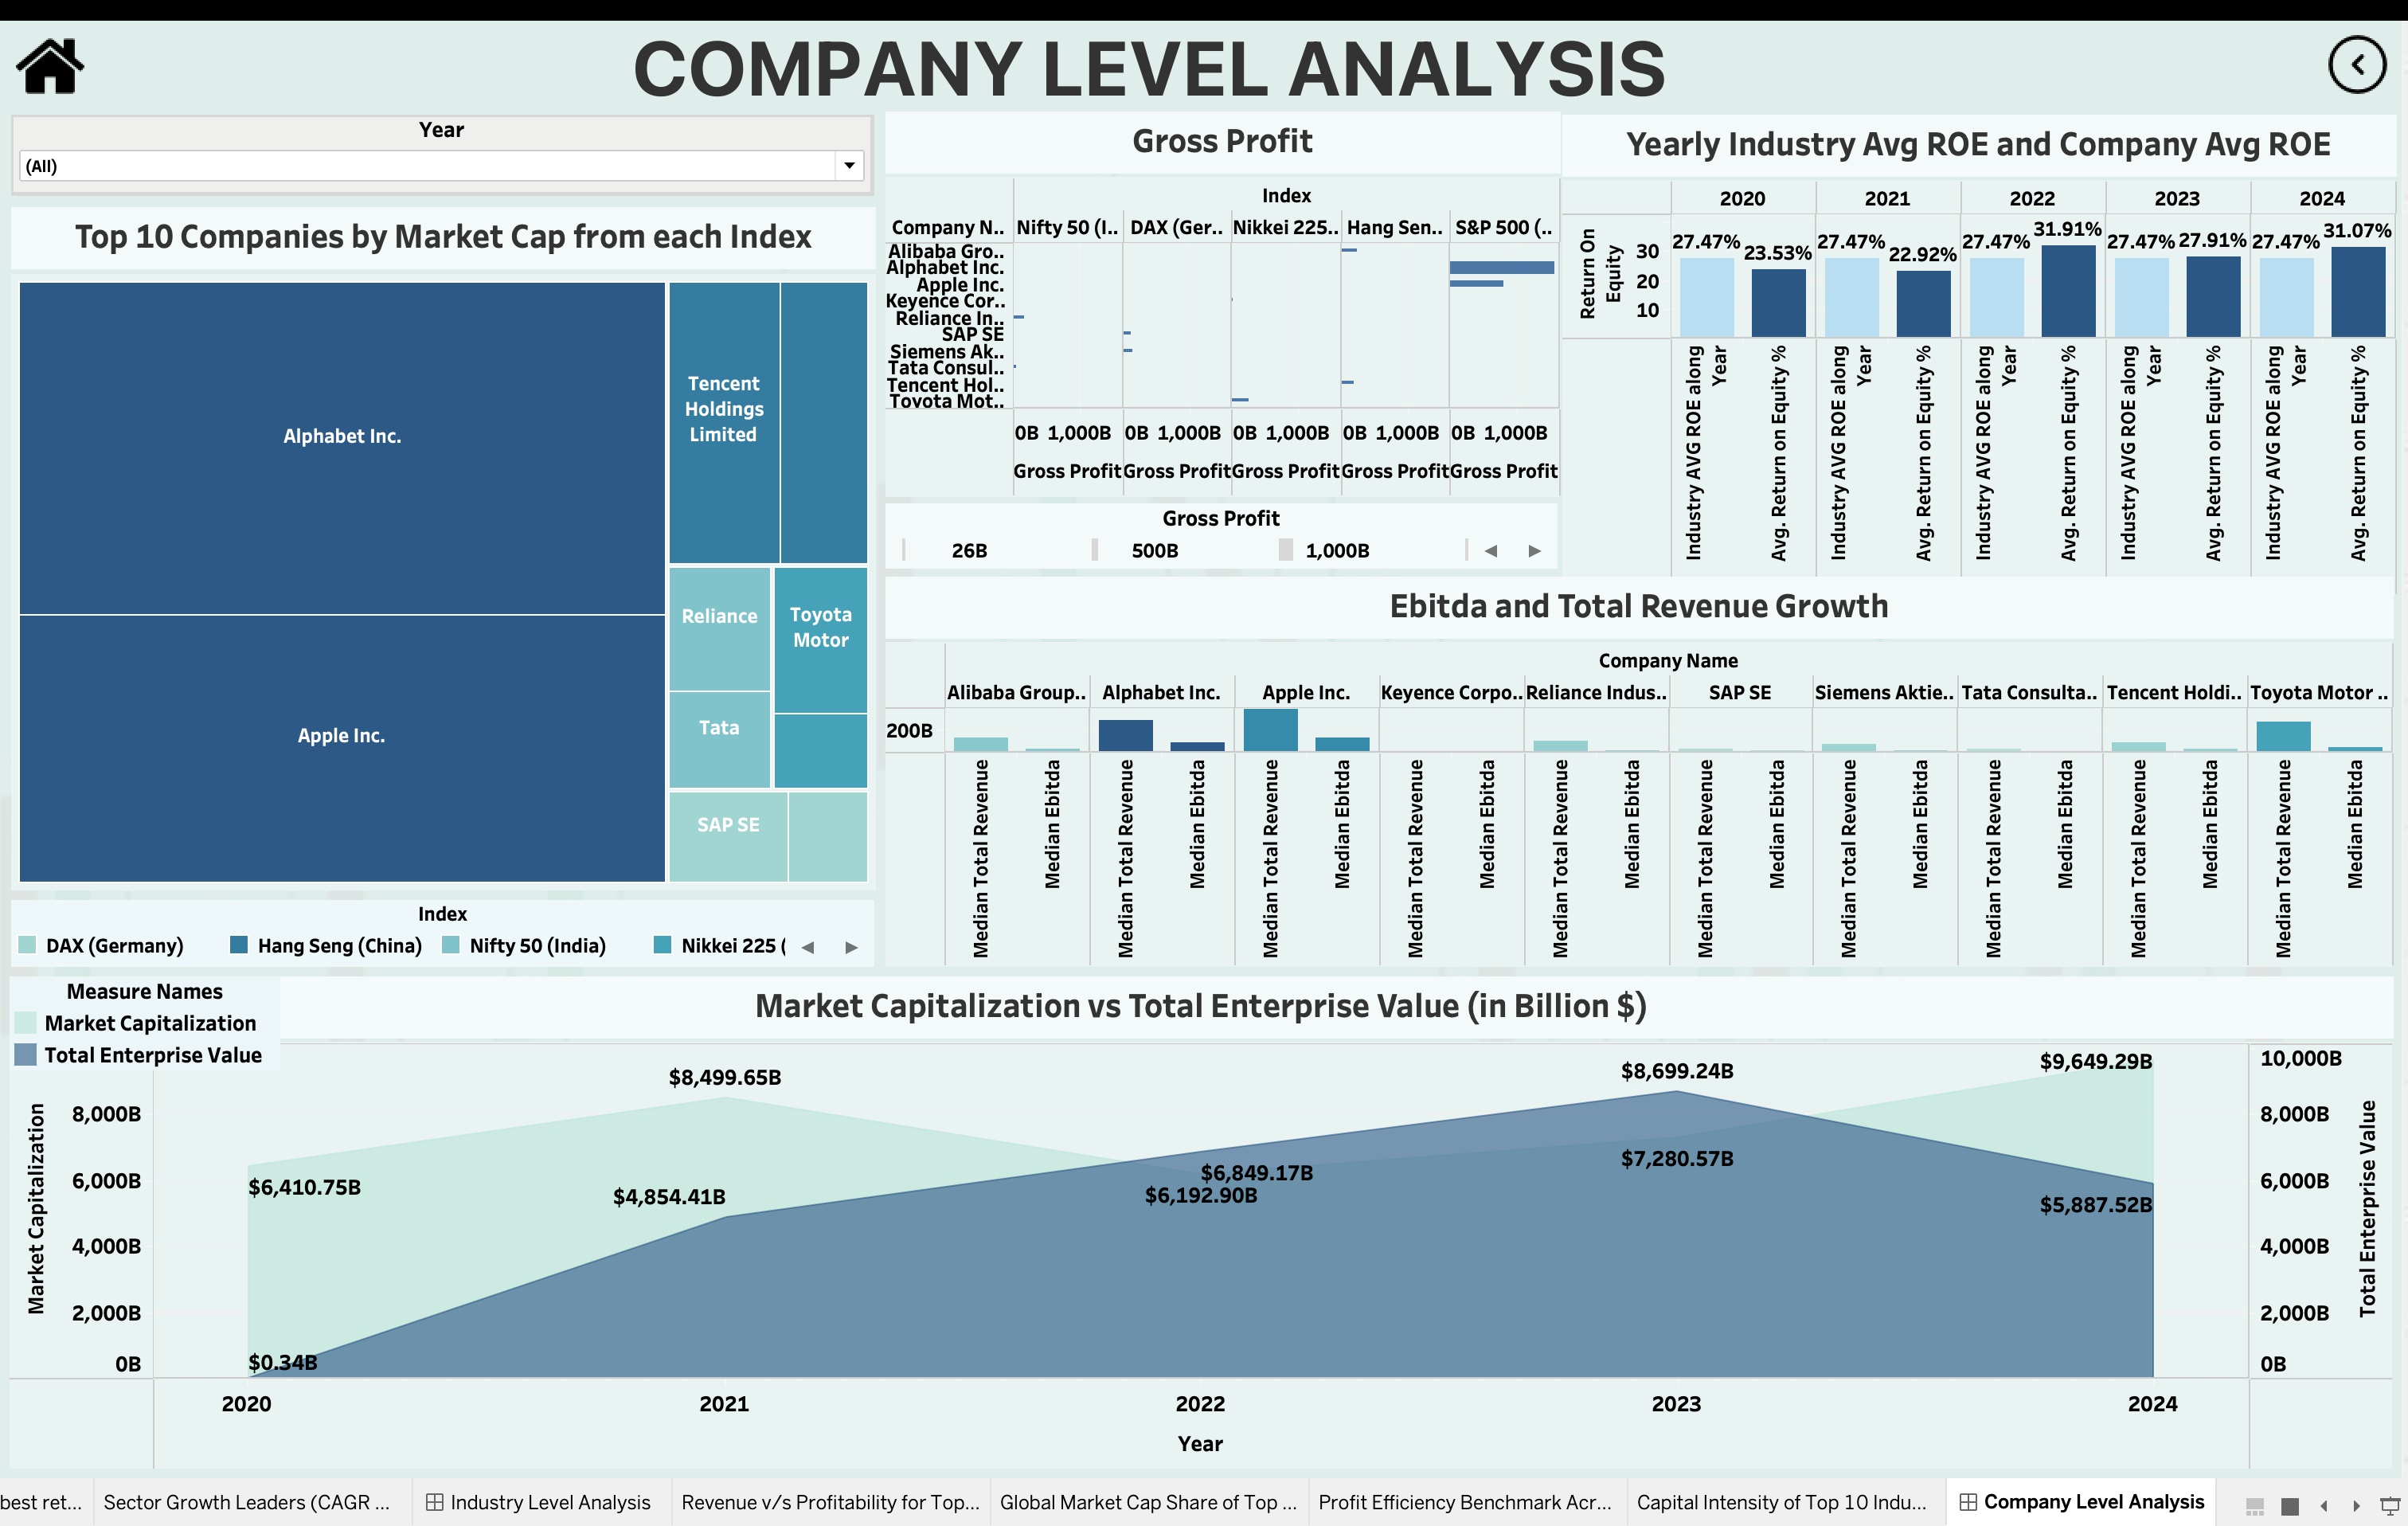

This screenshot's page, from the dashboard's own definition file:
{"tool":"tableau","page":{"name":"Company Level Analysis","canvas":[1000,1000],"units":"permille","ordinal":0},"visuals":[{"type":"dashboard-object","box":[965.9,5.2,27.4,48.1]},{"type":"dashboard-object","box":[3.9,7.5,33.4,46.8]},{"type":"worksheet","title":"Company Info","mark":"Automatic","box":[37.9,7.5,879.7,50.5]},{"type":"worksheet","title":"Gross Profit","mark":"Automatic","rows":["Company Name"],"cols":["Index","Gross Profit"],"box":[367.7,62.6,280.3,265.5]},{"type":"worksheet","title":"Industry Avg ROE and Copany Avg ROE","mark":"Bar","cols":["Year"],"box":[648.9,64.6,346.4,330.5]},{"type":"worksheet","title":"box (3)","mark":"Automatic","box":[4.9,64.9,358.3,55.8]},{"type":"filter","title":"Top 10 Companies by Market Cap from each Index","param":"[federated.0pgchlx1p5gws61gtvl2m0kqny3y].[yr:Year:ok]","box":[6.2,64.9,355.2,54.3]},{"type":"worksheet","title":"Top 10 Companies by Market Cap from each Index","mark":"Automatic","box":[4.9,127.5,359.2,469.1]},{"type":"legend","title":"Gross Profit","param":"[federated.0pgchlx1p5gws61gtvl2m0kqny3y].[sum:Gross Profit:qk]","box":[367.5,331.6,279.1,44.5]},{"type":"worksheet","title":"Ebitda and Total Revenue Growth","mark":"Automatic","cols":["Company Name"],"box":[367.7,381.6,626.6,267.7]},{"type":"legend","title":"Top 10 Companies by Market Cap from each Index","param":"[federated.0pgchlx1p5gws61gtvl2m0kqny3y].[none:Index:nk]","box":[4.5,603.3,358.7,46]},{"type":"worksheet","title":"Market Capitalization vs Total Enterprise Value (in Billion $)","mark":"Area","rows":["Market Capitalization","Total Enterprise Value"],"cols":["Year"],"box":[4,655.4,989.8,338.6]},{"type":"legend","title":"Market Capitalization vs Total Enterprise Value (in Billion $)","param":"[federated.0pgchlx1p5gws61gtvl2m0kqny3y].[:Measure Names]","box":[4,656.1,112.3,64.1]}]}

Visuals, with their boxes on the dashboard's canvas, which has no fixed pixel size, in thousandths of its width and height (x1, y1, x2, y2). These are canvas units, not pixel positions in the 2408x1526 screenshot, which may show the page scaled, cropped or inside an application window:
dashboard-object: 966:5:993:53
dashboard-object: 4:8:37:54
"Company Info" worksheet: 38:8:918:58
"Gross Profit" worksheet: 368:63:648:328
"Industry Avg ROE and Copany Avg ROE" worksheet (Bar marks): 649:65:995:395
"box (3)" worksheet: 5:65:363:121
"Top 10 Companies by Market Cap from each Index" filter: 6:65:361:119
"Top 10 Companies by Market Cap from each Index" worksheet: 5:128:364:597
"Gross Profit" legend: 368:332:647:376
"Ebitda and Total Revenue Growth" worksheet: 368:382:994:649
"Top 10 Companies by Market Cap from each Index" legend: 4:603:363:649
"Market Capitalization vs Total Enterprise Value (in Billion $)" worksheet (Area marks): 4:655:994:994
"Market Capitalization vs Total Enterprise Value (in Billion $)" legend: 4:656:116:720
